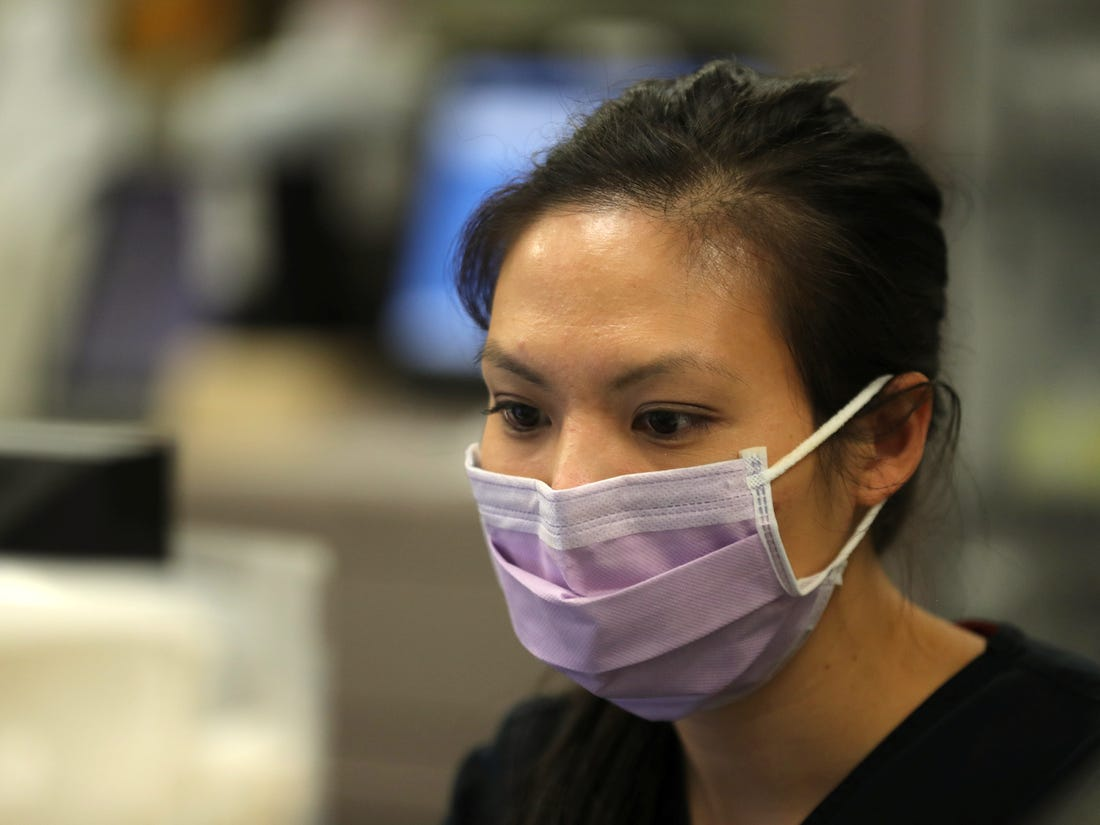surgical: (446, 442, 835, 722)
